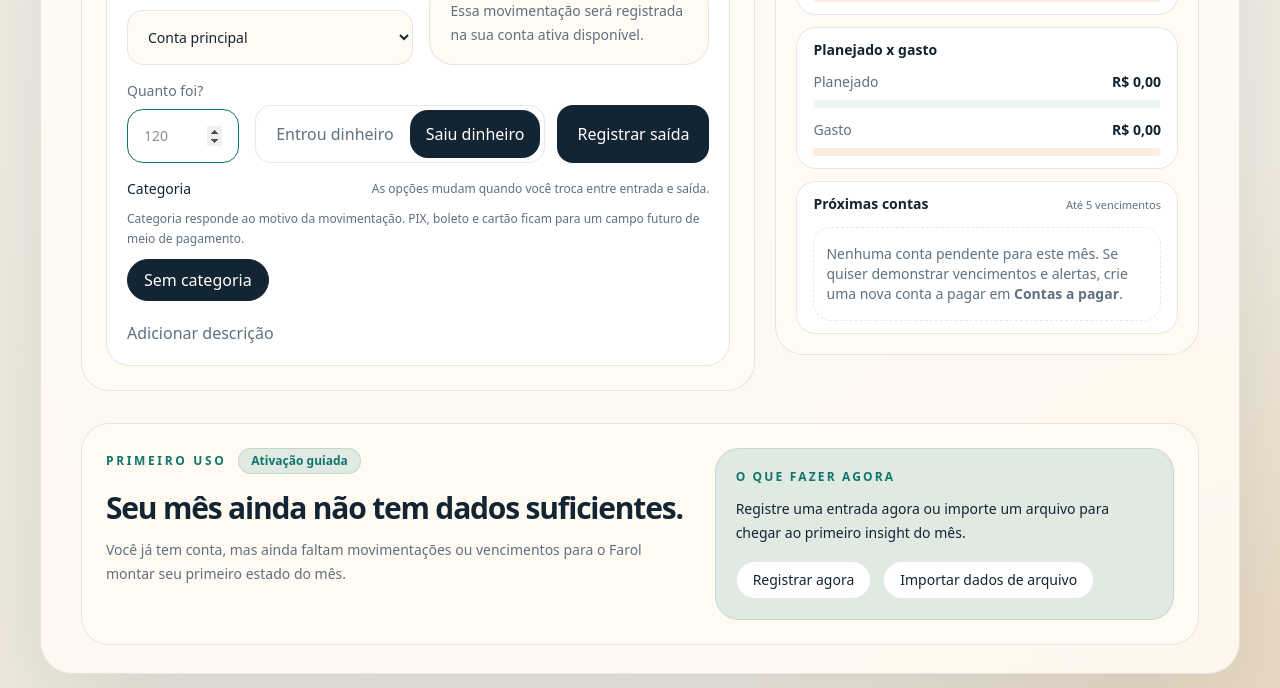
Scenario: DashboardPage › Dashboard_RegisterNow_ShowsCategoryChoicesAndKeepsDescriptionCollapsed
The width and height of the screenshot is (1280, 688).
(page scrolled)
Expected: the button "Registrar saída" is shown, [558,104,710,162]
Expected: the button "Sem categoria" is shown, [127,258,269,300]
Click the button "Adicionar descrição". click: point(200, 332)
box: [127,320,274,344]
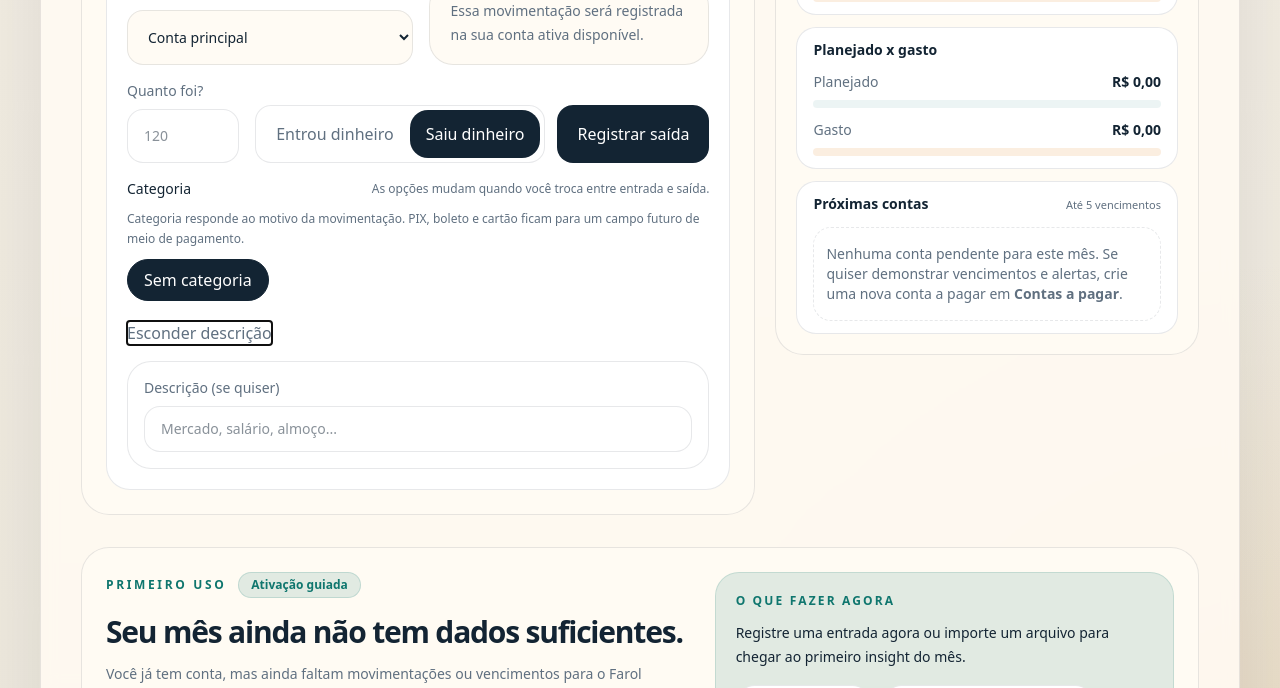
Expected: the field labelled "Descrição (se quiser)" is shown, [144,406,692,452]
